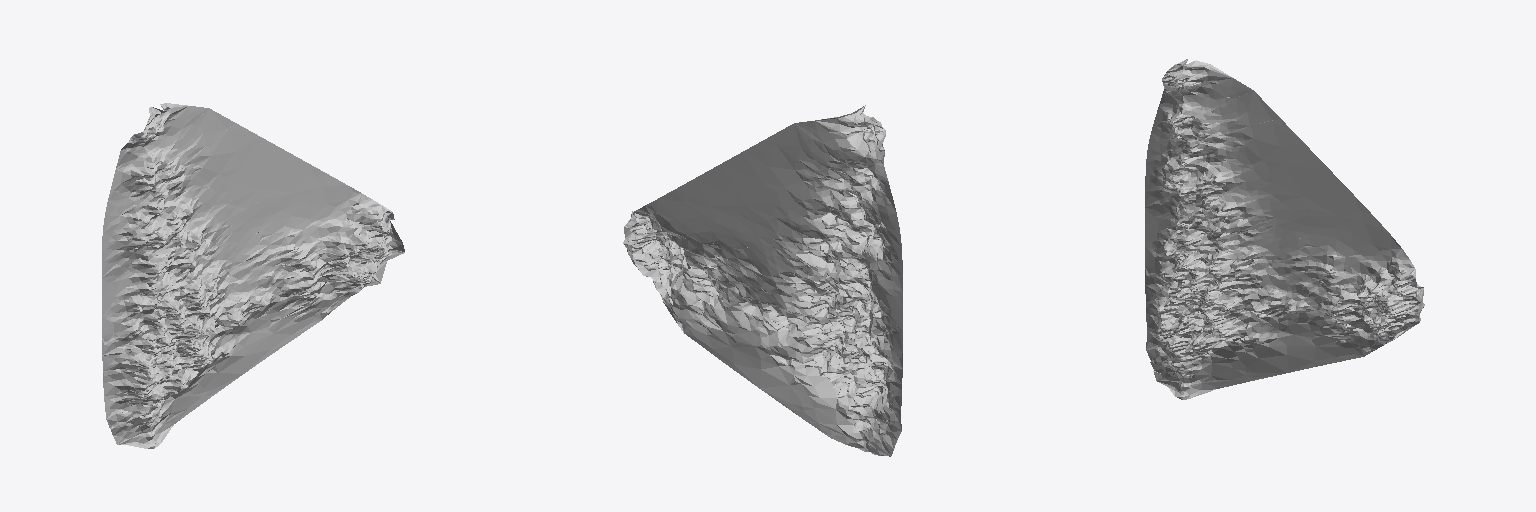
Rendered from pca5_island.obj.
3 views of the same model, side by side, from view 1: azimuth 30°, elevation 25°; view 2: azimuth 150°, elevation 25°; view 3: azimuth 330°, elevation 25° (orthographic).
Parts seen in each view (by area): view 1: grp1; view 2: grp1; view 3: grp1.
Part boxes in pixels (left/top/right/bottom): grp1: left=102, top=103, right=404, bottom=448; grp1: left=623, top=105, right=902, bottom=456; grp1: left=1145, top=59, right=1424, bottom=399.
Bounding box in the file's own units: 0.8881 × 1 × 0.1095.